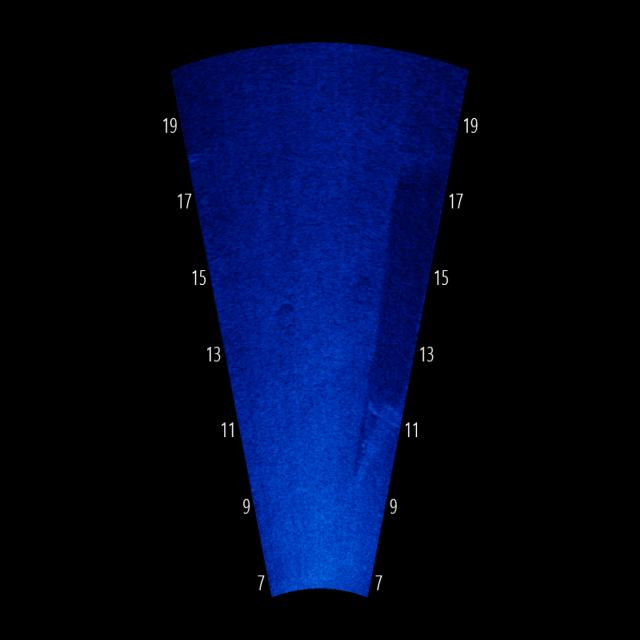triangle: (341, 406, 406, 481)
